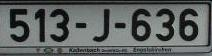-: (75, 22, 87, 29), (115, 22, 127, 29)
1: (34, 9, 46, 43)
3: (49, 8, 69, 42), (155, 8, 175, 42)
5: (9, 8, 31, 42)
6: (131, 8, 152, 42), (179, 8, 199, 42)
J: (92, 8, 110, 42)
